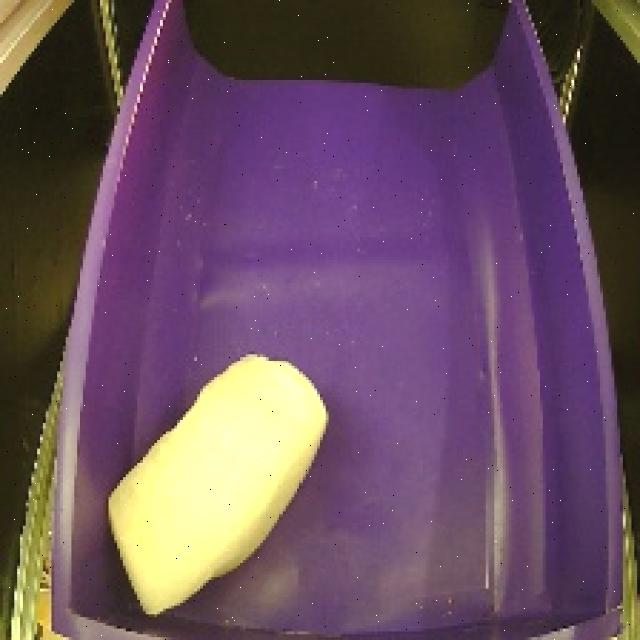white_radish: (102, 344, 336, 618)
